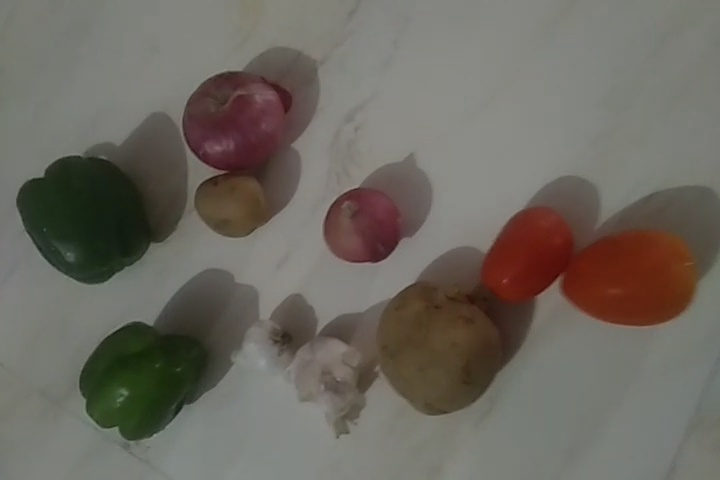capsicum: (16, 153, 153, 283), (87, 329, 199, 437)
onion: (184, 69, 287, 169), (321, 185, 393, 261)
potato: (377, 281, 496, 416), (201, 175, 268, 239)
tomato: (562, 234, 695, 332), (484, 209, 559, 299)
